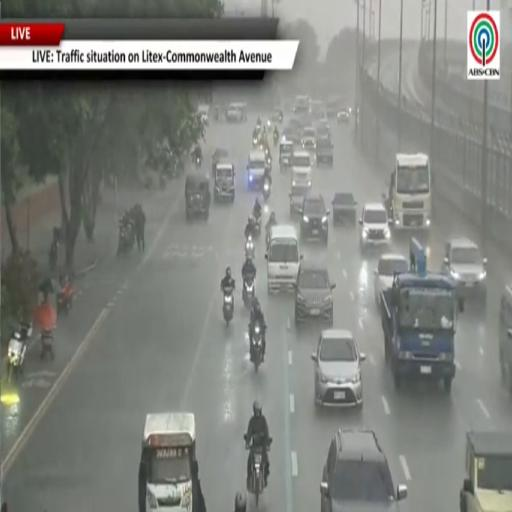car: (321, 429, 407, 511), (312, 329, 365, 407), (460, 431, 511, 511), (442, 238, 487, 302), (295, 262, 335, 325), (374, 253, 408, 305), (300, 192, 329, 245), (360, 203, 390, 251), (499, 283, 511, 393), (332, 192, 357, 226), (316, 137, 333, 167), (226, 103, 247, 122), (302, 127, 316, 152), (327, 96, 341, 118), (198, 104, 210, 126), (316, 124, 331, 141), (316, 119, 330, 136), (337, 109, 350, 123)
jeepney: (139, 413, 196, 511)
motorcycle: (245, 435, 264, 507), (7, 333, 28, 381), (250, 323, 263, 373), (117, 221, 134, 255), (57, 285, 74, 315), (40, 330, 54, 360), (243, 277, 255, 309), (223, 288, 233, 325), (245, 235, 255, 260), (20, 322, 32, 339), (262, 180, 270, 201), (254, 214, 261, 236), (273, 131, 279, 147), (195, 156, 201, 169), (252, 137, 259, 147)
truck: (381, 237, 464, 393), (383, 153, 432, 232)
